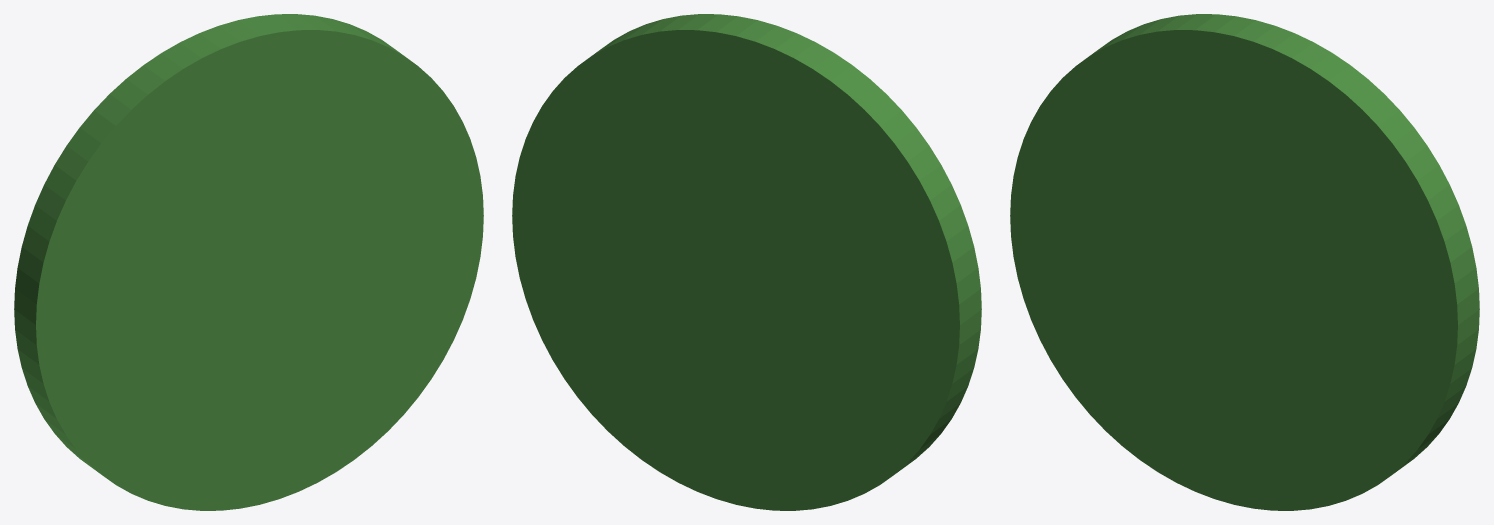
Rendered from HummingbirdProp_symmetry.dae.
3 views of the same model, side by side, from view 1: azimuth 30°, elevation 25°; view 2: azimuth 150°, elevation 25°; view 3: azimuth 330°, elevation 25° (orthographic).
Parts seen in each view (by area): view 1: HummingbirdProp; view 2: HummingbirdProp; view 3: HummingbirdProp.
Boxes of the visible parts, x1=… form: HummingbirdProp: x1=14, y1=14, x2=483, y2=510; HummingbirdProp: x1=512, y1=14, x2=981, y2=510; HummingbirdProp: x1=1010, y1=14, x2=1479, y2=510.
Size of the model in its own units: 0.1778 by 0.015 by 0.1778.
